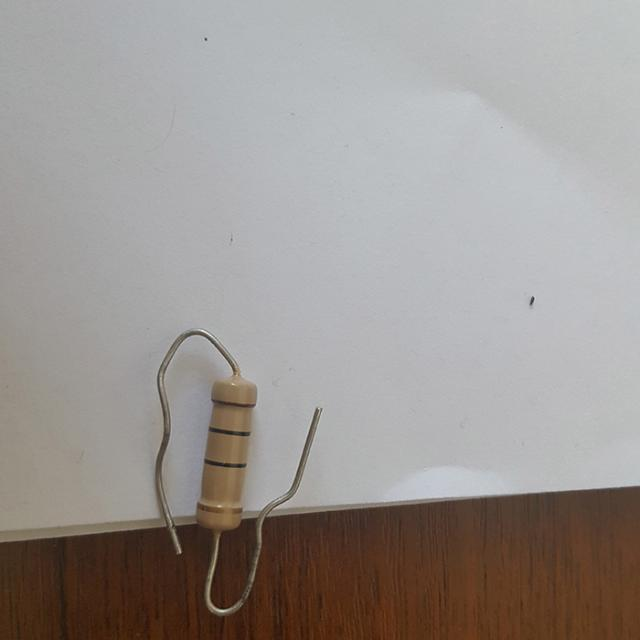black: (210, 427, 250, 436), (205, 459, 244, 468)
brown: (214, 400, 252, 408)
gold: (198, 504, 240, 513)
resistor: (181, 365, 272, 546)
